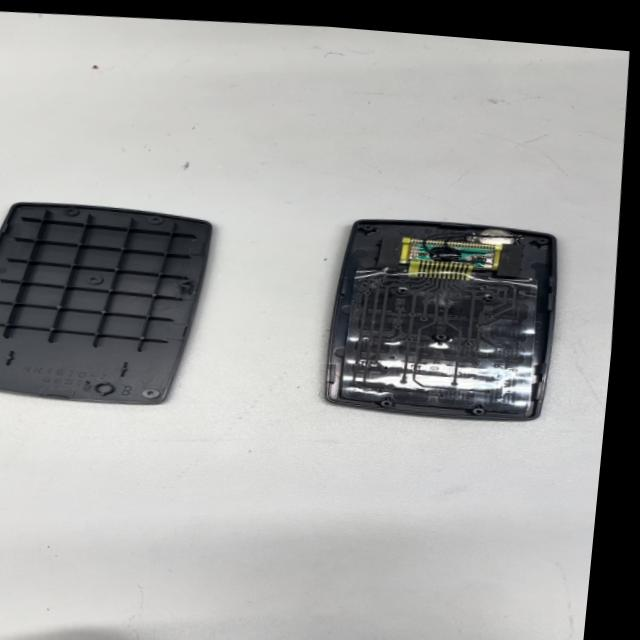back_cover: (0, 187, 229, 417)
front_panel: (309, 200, 573, 432)
